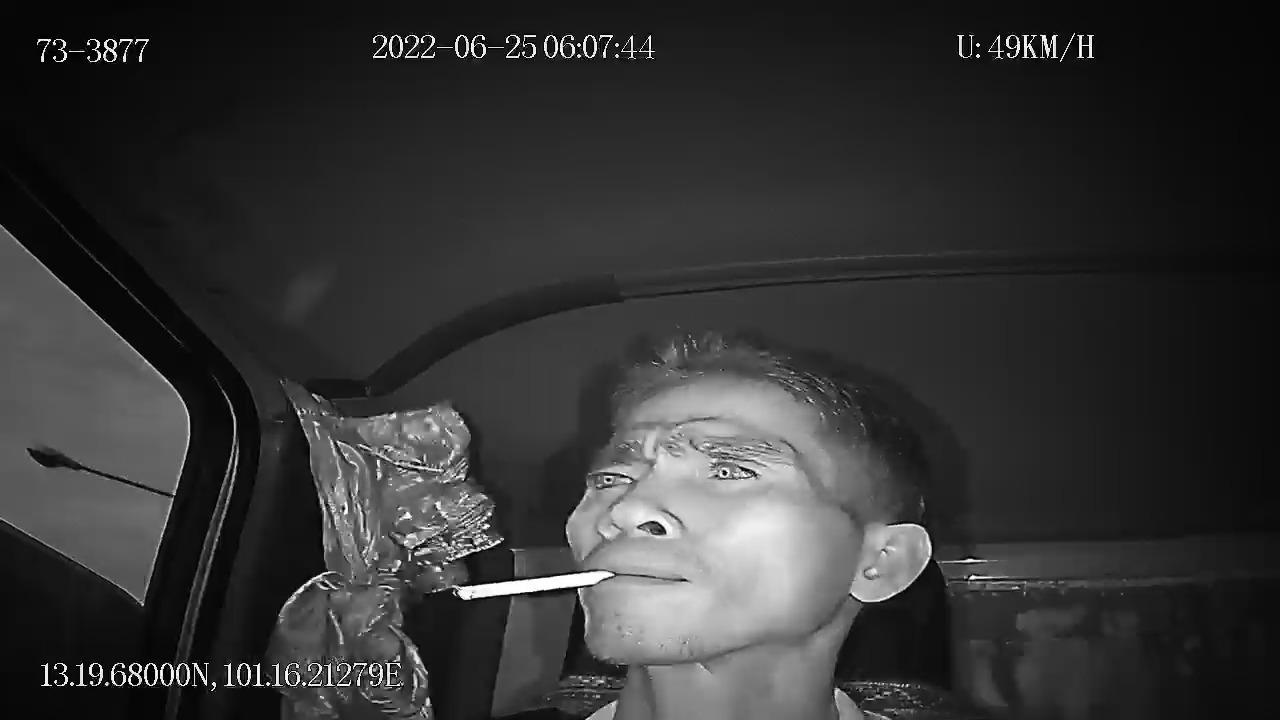Smoking: (432, 560, 649, 647)
